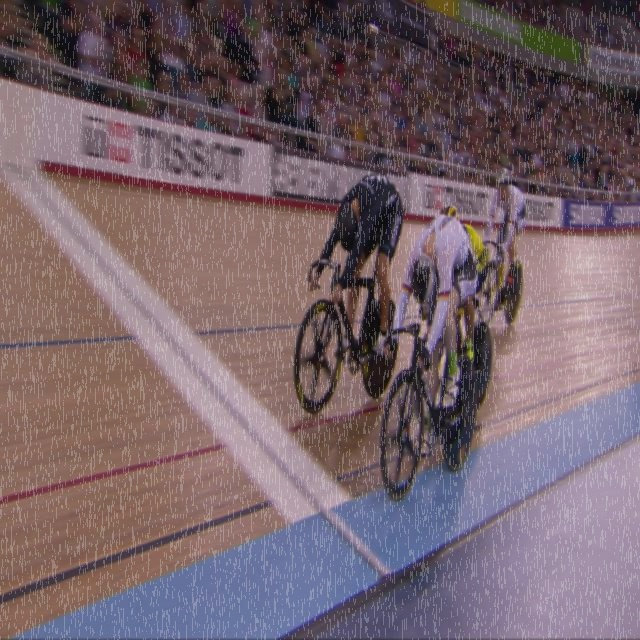pessoa: (1, 1, 640, 208), (380, 212, 480, 462), (306, 170, 406, 370), (440, 204, 490, 362), (482, 162, 529, 316)
